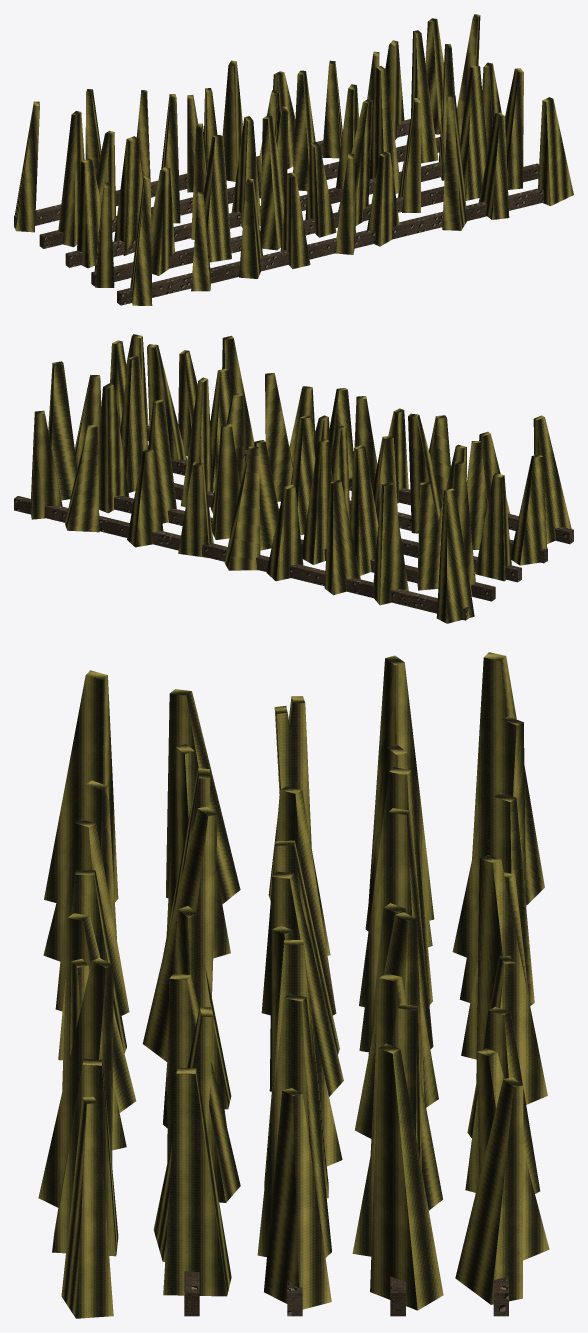
Rendered from ext_corn.glb.
The picture shows the model from 3 angles, top to bottom: view 1: azimuth 30°, elevation 25°; view 2: azimuth 150°, elevation 25°; view 3: azimuth 270°, elevation 25°; orthographic projection. The views are drawn at different scales.
Visible parts, largest first — view 1: ext_corn_mesh; view 2: ext_corn_mesh; view 3: ext_corn_mesh.
Part boxes in pixels (x1=…): ext_corn_mesh: x1=14, y1=14, x2=573, y2=305; ext_corn_mesh: x1=14, y1=334, x2=573, y2=623; ext_corn_mesh: x1=38, y1=652, x2=549, y2=1318.
Bounding box in the file's own units: 8.16 × 2.21 × 3.97.
2 materials, 2 textured.
